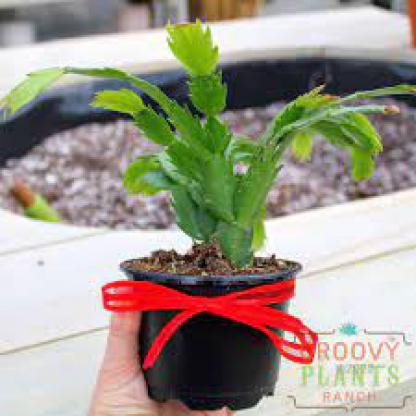Aglonema: (29, 55, 416, 264)
